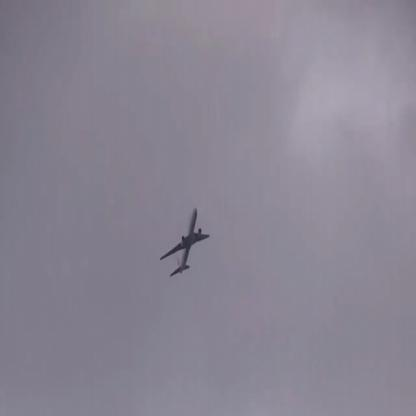CIV_Plane: (158, 207, 211, 277)
